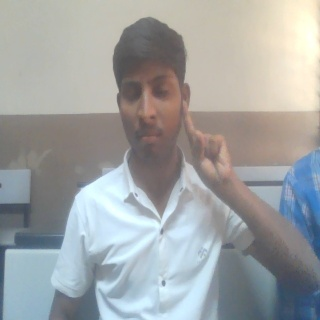Deaf: (181, 99, 237, 194)
Face: (110, 16, 192, 168)
